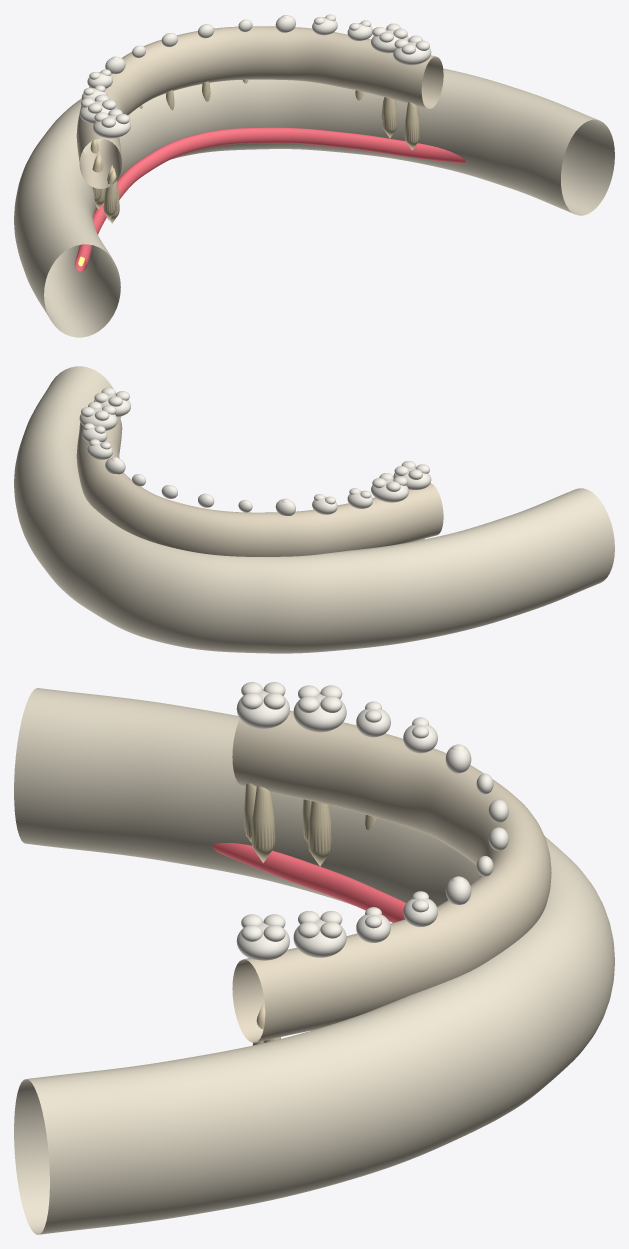
File: jaw.glb
The picture shows the model from 3 angles, top to bottom: view 1: azimuth 30°, elevation 25°; view 2: azimuth 150°, elevation 25°; view 3: azimuth 270°, elevation 25°; orthographic projection. The views are drawn at different scales.
Visible parts, largest first — view 1: Mandible_Body, Alveolar_Ridge, Mandibular_Canal, Tooth_1_Root_molar, Tooth_2_Root_molar, Tooth_1_Crown_molar, Tooth_14_Crown_molar, Tooth_14_Root2; view 2: Mandible_Body, Alveolar_Ridge, Tooth_13_Crown_molar; view 3: Mandible_Body, Alveolar_Ridge, Mandibular_Canal, Tooth_14_Root_molar, Tooth_13_Root_molar, Tooth_2_Crown_molar, Tooth_14_Crown_molar, Tooth_13_Crown_molar, Tooth_1_Crown_molar.
Part boxes in pixels (x1=…): Mandible_Body: x1=14, y1=68, x2=614, y2=337; Alveolar_Ridge: x1=76, y1=26, x2=443, y2=188; Mandibular_Canal: x1=74, y1=127, x2=465, y2=271; Tooth_1_Root_molar: x1=404, y1=102, x2=419, y2=150; Tooth_2_Root_molar: x1=382, y1=97, x2=397, y2=137; Tooth_1_Crown_molar: x1=393, y1=42, x2=431, y2=65; Tooth_14_Crown_molar: x1=93, y1=115, x2=130, y2=138; Tooth_14_Root2: x1=103, y1=168, x2=117, y2=220; Mandible_Body: x1=14, y1=366, x2=614, y2=653; Alveolar_Ridge: x1=76, y1=417, x2=443, y2=556; Tooth_13_Crown_molar: x1=371, y1=479, x2=408, y2=502; Mandible_Body: x1=14, y1=688, x2=614, y2=1234; Alveolar_Ridge: x1=232, y1=710, x2=551, y2=1042; Mandibular_Canal: x1=212, y1=843, x2=406, y2=922; Tooth_14_Root_molar: x1=251, y1=786, x2=275, y2=862; Tooth_13_Root_molar: x1=308, y1=801, x2=331, y2=866; Tooth_2_Crown_molar: x1=293, y1=918, x2=346, y2=957; Tooth_14_Crown_molar: x1=236, y1=689, x2=289, y2=728; Tooth_13_Crown_molar: x1=293, y1=692, x2=346, y2=732; Tooth_1_Crown_molar: x1=236, y1=921, x2=289, y2=960.
Bounding box in the file's own units: 3.61 × 0.8779 × 2.08.
